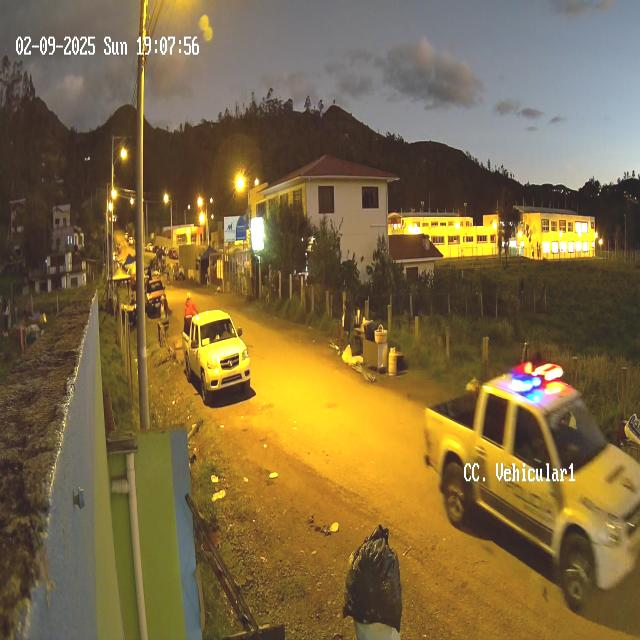CMT: (423, 367, 640, 604)
